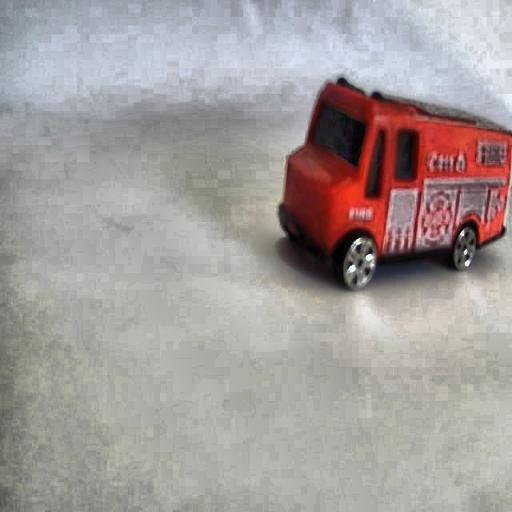fire_truck: (277, 76, 510, 288), (466, 129, 512, 236)
